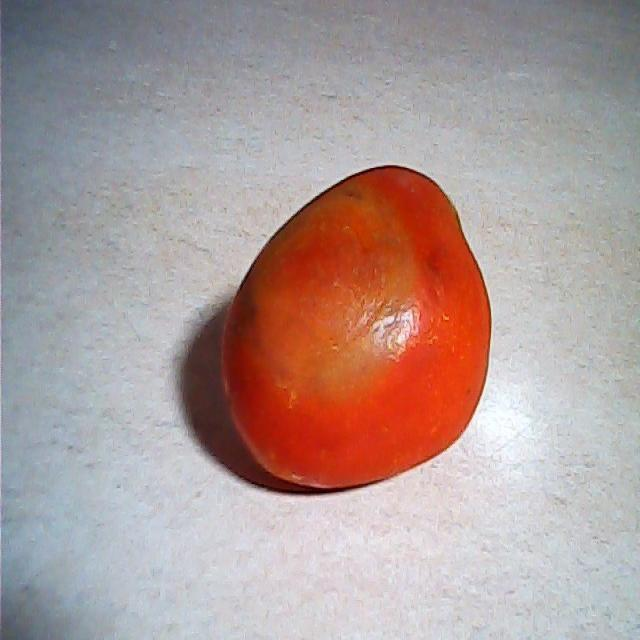defectuoso: (211, 164, 494, 502)
